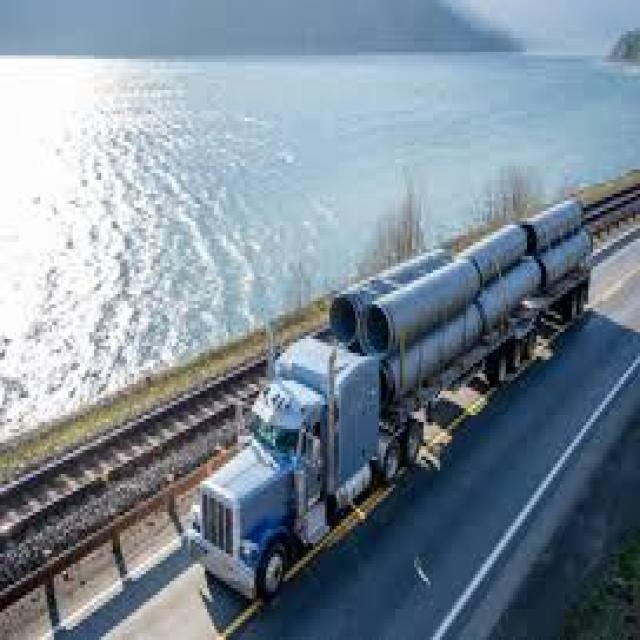uncovered: (180, 198, 594, 602)
